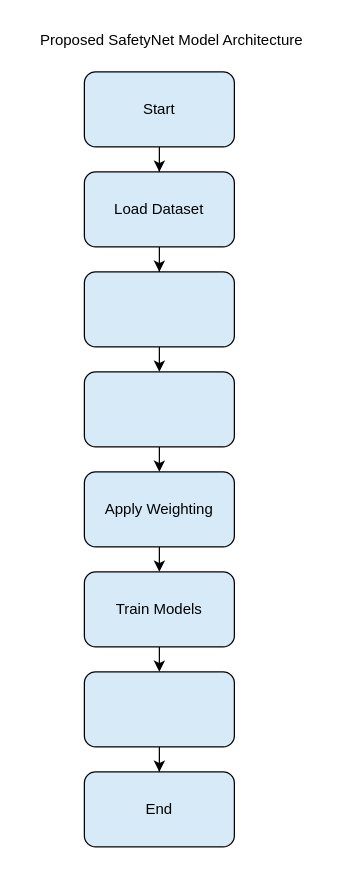
Image size: 343x869. Some labels were removed from this diagram. Each missing label, with the centre of its shape:
Evaluate: the point at 158,709
Feature Extraction: the point at 158,409
Preprocessing: the point at 158,309
